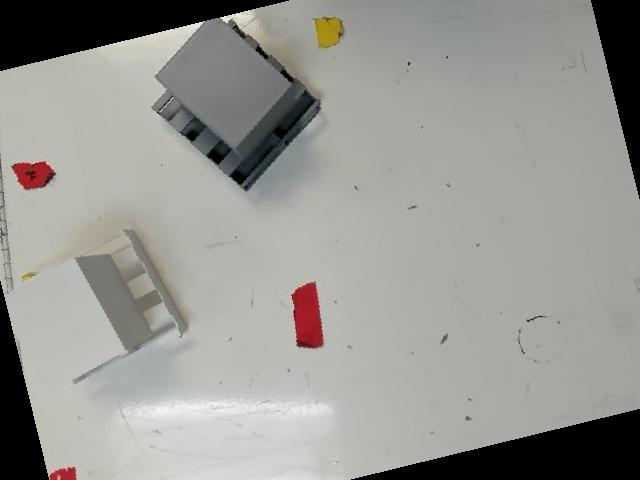grey pallet: (147, 13, 338, 194)
white pallet: (1, 223, 190, 394)
